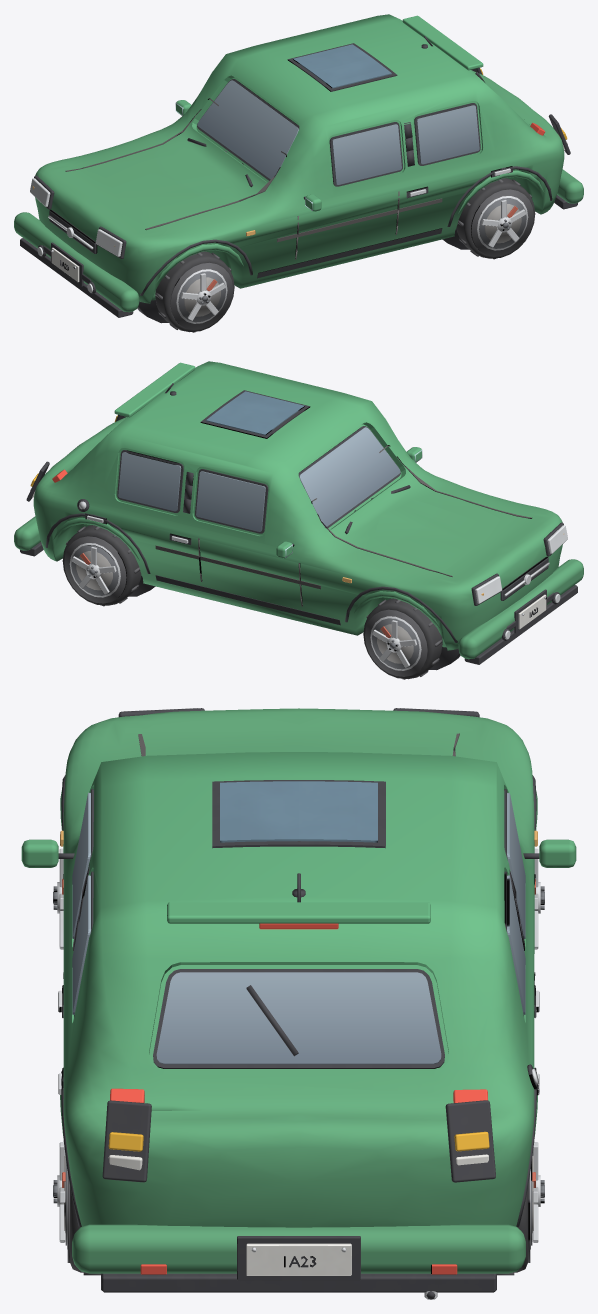
The model's file is Transito_CarGreen.fbx.
3 views of the same model, one above another, from view 1: azimuth 30°, elevation 25°; view 2: azimuth 150°, elevation 25°; view 3: azimuth 270°, elevation 25° (orthographic). The views are drawn at different scales.
Parts seen in each view (by area): view 1: Transito_CarGreen; view 2: Transito_CarGreen; view 3: Transito_CarGreen.
Boxes of the visible parts, left/top/right/bottom form: Transito_CarGreen: left=14, top=14, right=583, bottom=332; Transito_CarGreen: left=14, top=361, right=583, bottom=679; Transito_CarGreen: left=21, top=708, right=576, bottom=1299.
Bounding box in the file's own units: 4.13 × 1.62 × 2.1.
Materials: 1 (1 with a texture image).
